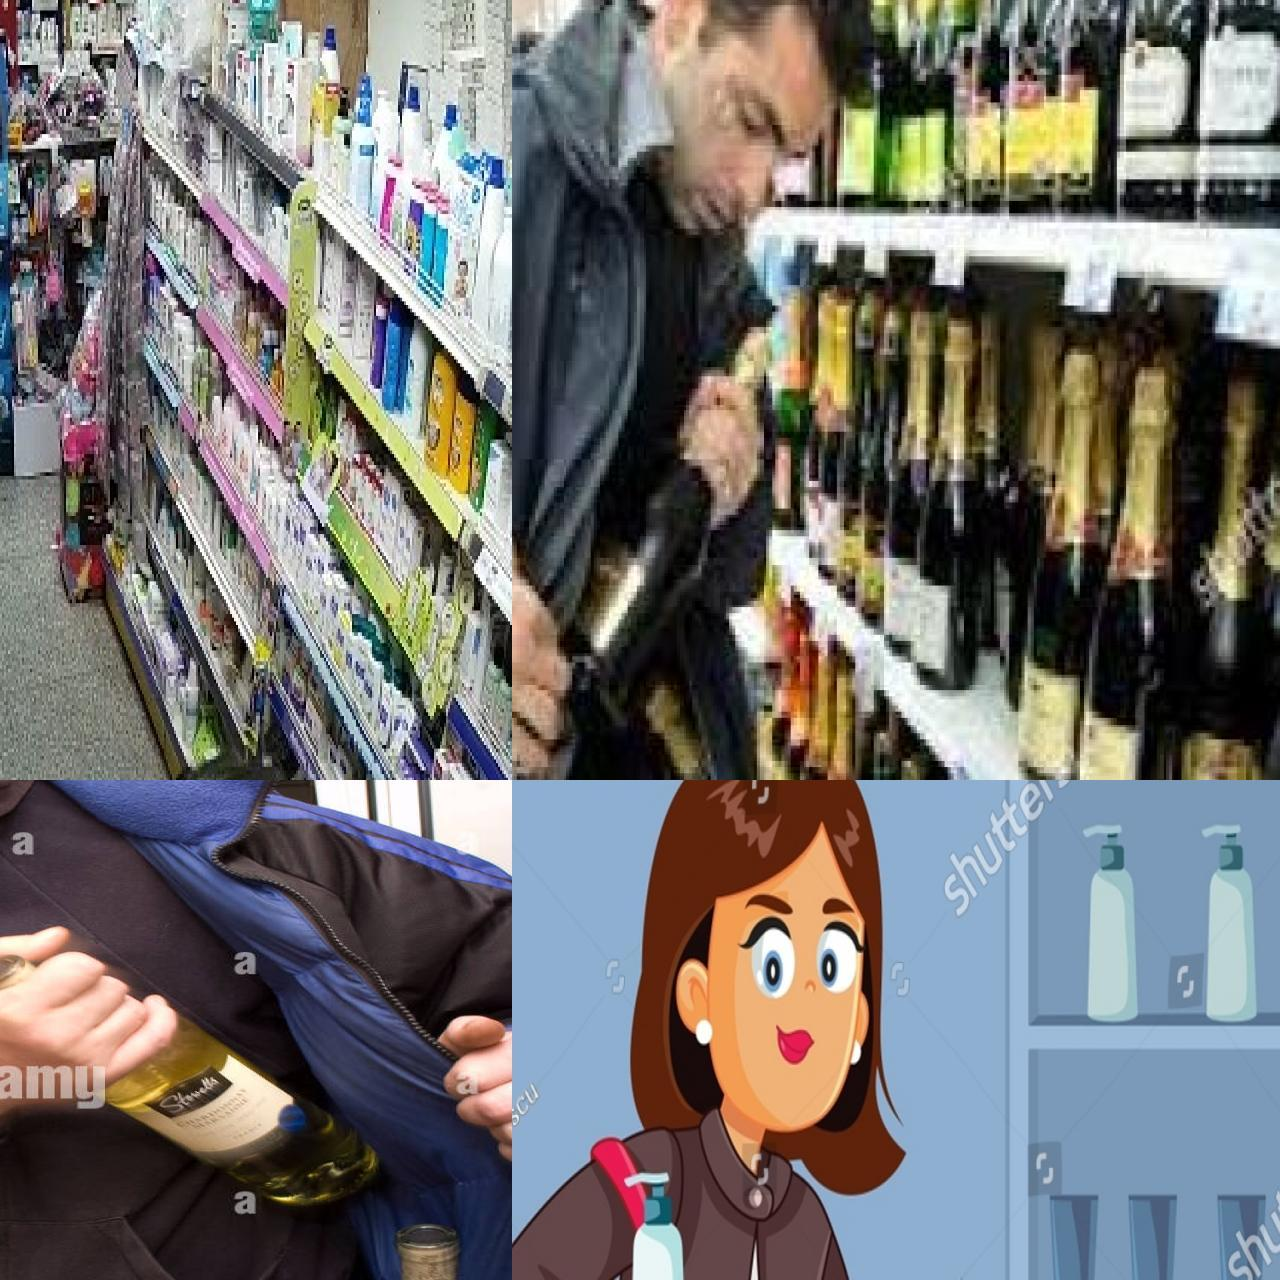Shoplifting: (512, 11, 1163, 779), (512, 0, 1130, 779), (0, 779, 512, 1280), (515, 1107, 941, 1280)
normal: (72, 612, 356, 779)
